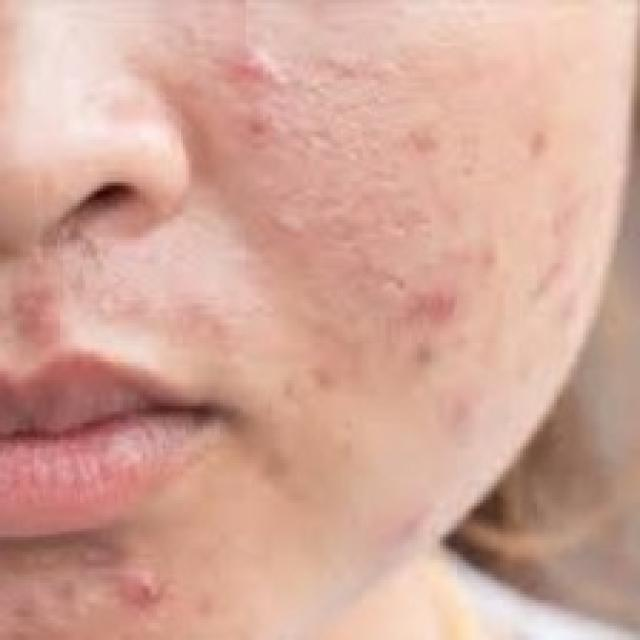Acne: (208, 35, 590, 440), (0, 275, 194, 352), (28, 572, 206, 640)
